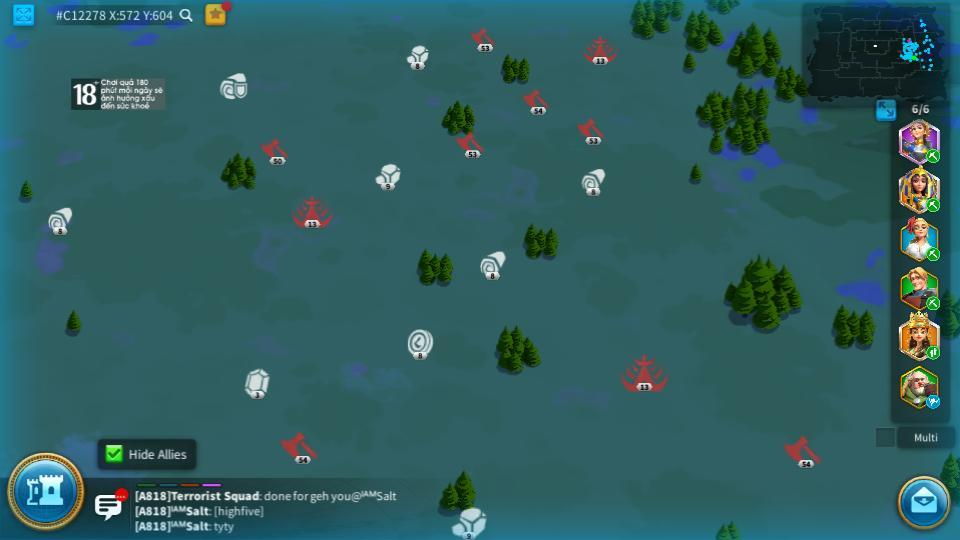gem-z-out: (243, 369, 271, 396)
march_farming: (925, 197, 941, 212), (925, 297, 942, 308), (924, 248, 939, 260)
march_idle: (925, 396, 942, 408)
march_marching: (925, 347, 941, 359), (925, 150, 941, 162)
